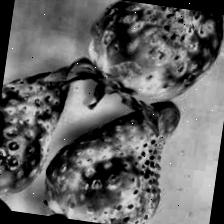Powdery Mildew Fruit: (39, 85, 183, 224), (81, 0, 224, 114), (0, 65, 71, 211)
